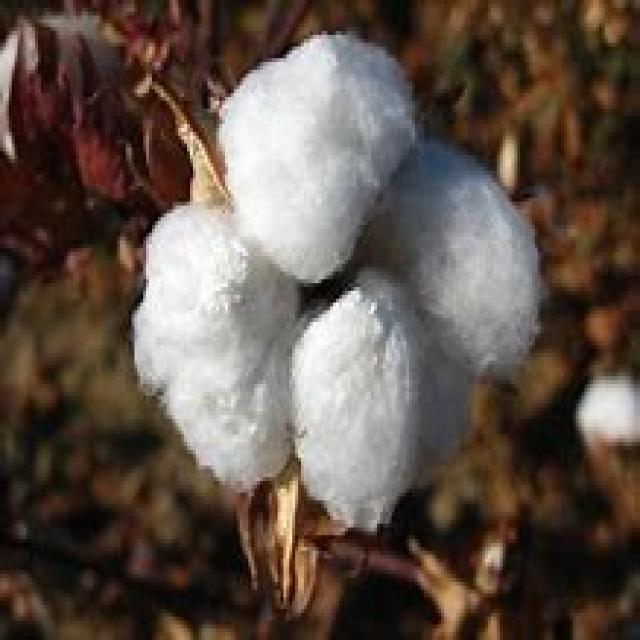Matured Cotton Boll: (123, 28, 552, 538)
